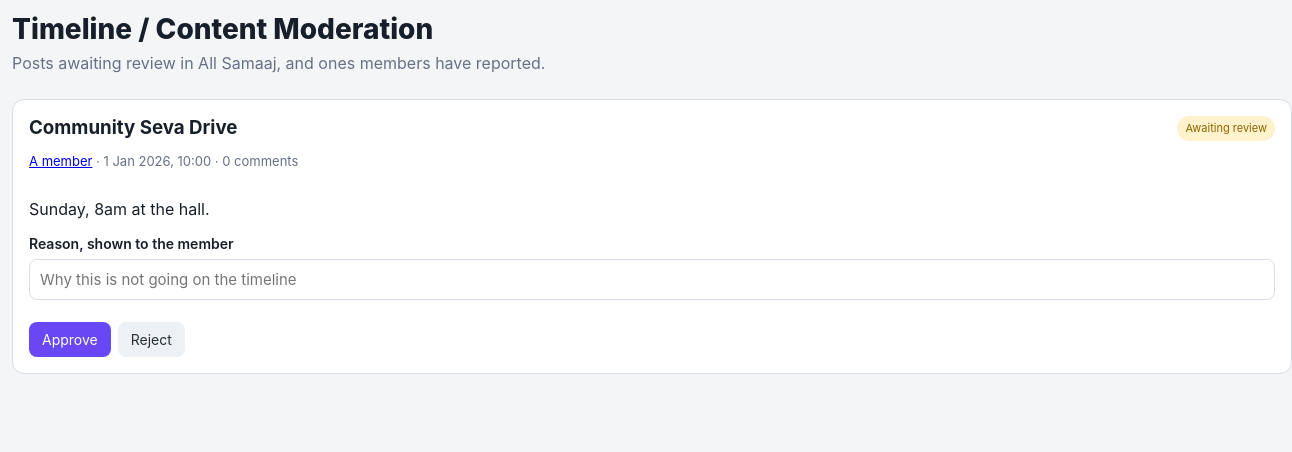
Test: ModerationQueueComponent › will not send a rejection without a reason, and says so
Click the button "Reject".
click(151, 339)  # box x1=118 y1=322 x2=185 y2=357
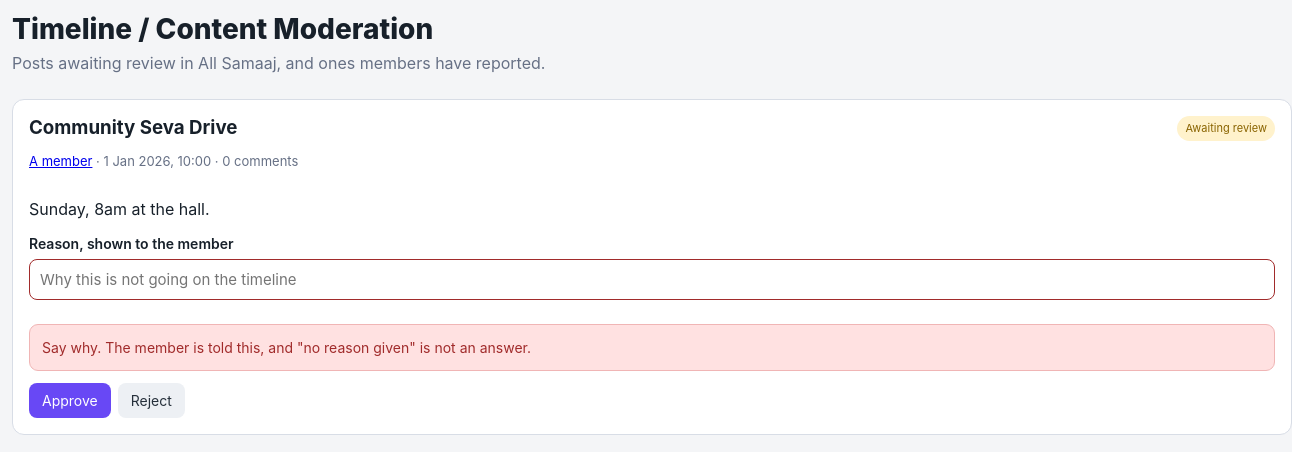
expect the text "Say why" is shown: met, box x1=42 y1=339 x2=531 y2=356
